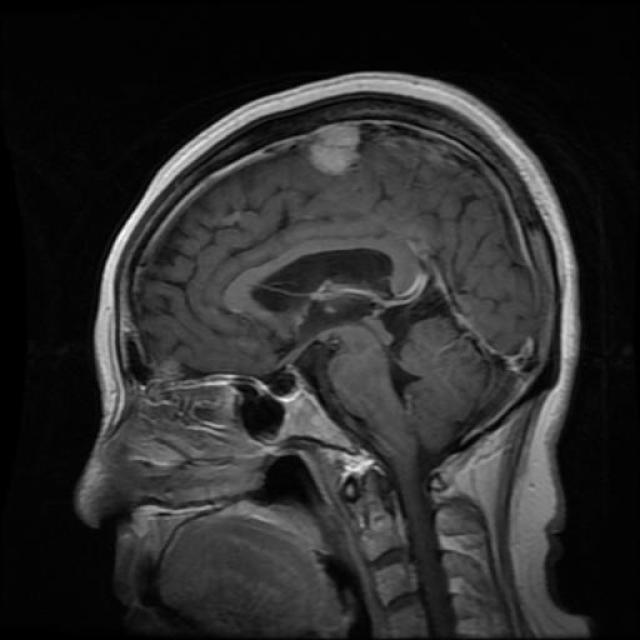meningioma: (305, 126, 359, 176)
